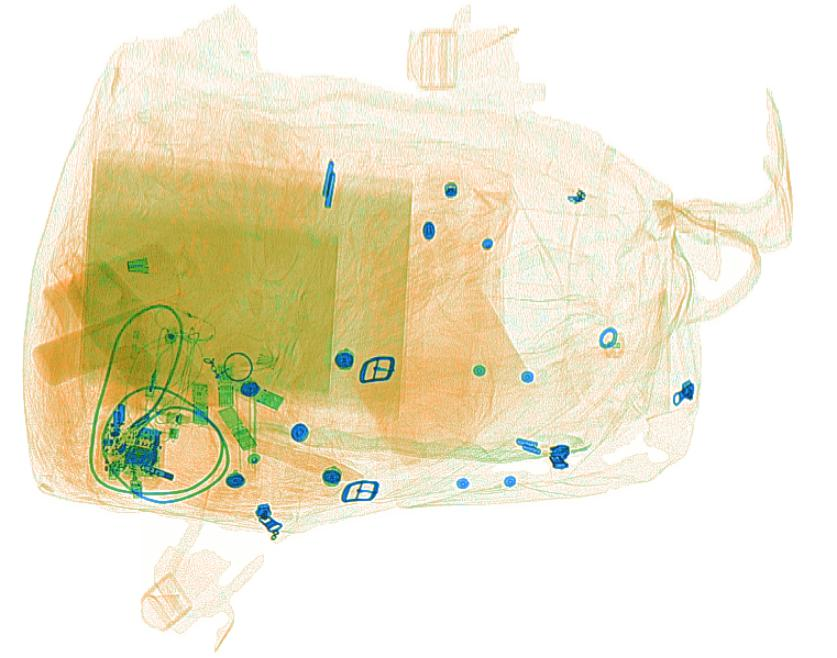plasticBottleWithaNozzle: (85, 307, 166, 478)
